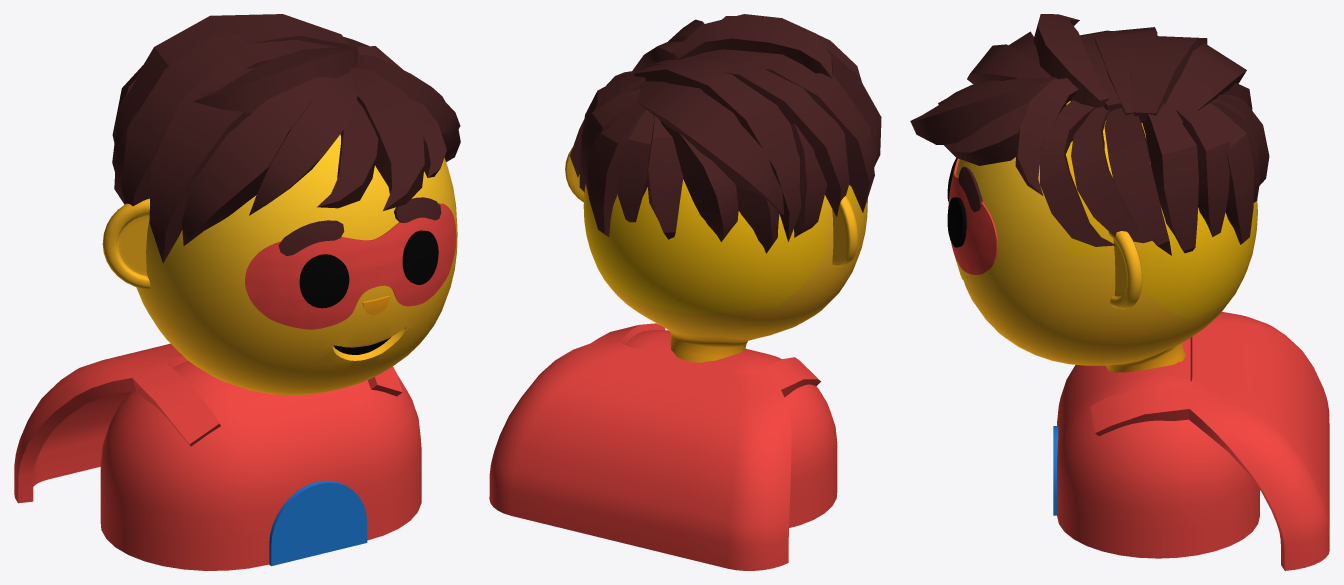
Rendered from superhero.gltf.
The picture shows the model from 3 angles, left to right: view 1: azimuth 30°, elevation 25°; view 2: azimuth 150°, elevation 25°; view 3: azimuth 270°, elevation 25°; orthographic projection. The views are drawn at different scales.
Parts seen in each view (by area): view 1: Cube.2372, Sphere.130, Roundcube.200, Sphere.159, Roundcube.201, Circle.964, Circle.958, Cylinder.143, Circle.963; view 2: Sphere.159, Cube.2372, Roundcube.200, Sphere.130, Cylinder.143; view 3: Cube.2372, Roundcube.200, Sphere.130, Sphere.159, Roundcube.201, Cylinder.143, Circle.958, Circle.963.
Part boxes in pixels (box(x1,y1,x2,y2)): Cube.2372: box(112, 14, 460, 263); Sphere.130: box(100, 361, 421, 570); Roundcube.200: box(136, 134, 457, 395); Sphere.159: box(14, 343, 402, 503); Roundcube.201: box(245, 203, 456, 329); Circle.964: box(269, 480, 367, 566); Circle.958: box(299, 230, 438, 308); Cylinder.143: box(102, 198, 150, 289); Circle.963: box(278, 197, 441, 256); Sphere.159: box(489, 323, 820, 570); Cube.2372: box(570, 14, 881, 253); Roundcube.200: box(583, 179, 867, 362); Sphere.130: box(625, 330, 837, 527); Cylinder.143: box(565, 147, 857, 266); Cube.2372: box(910, 14, 1269, 255); Roundcube.200: box(955, 101, 1257, 372); Sphere.130: box(1057, 338, 1259, 558); Sphere.159: box(1090, 312, 1329, 570); Roundcube.201: box(948, 158, 997, 274); Cylinder.143: box(1108, 231, 1142, 309); Circle.958: box(947, 158, 966, 247); Circle.963: box(958, 166, 982, 212).
Size of the model in its own units: 1.78 by 2.48 by 2.07.
Materials: 2 (2 with a texture image).
